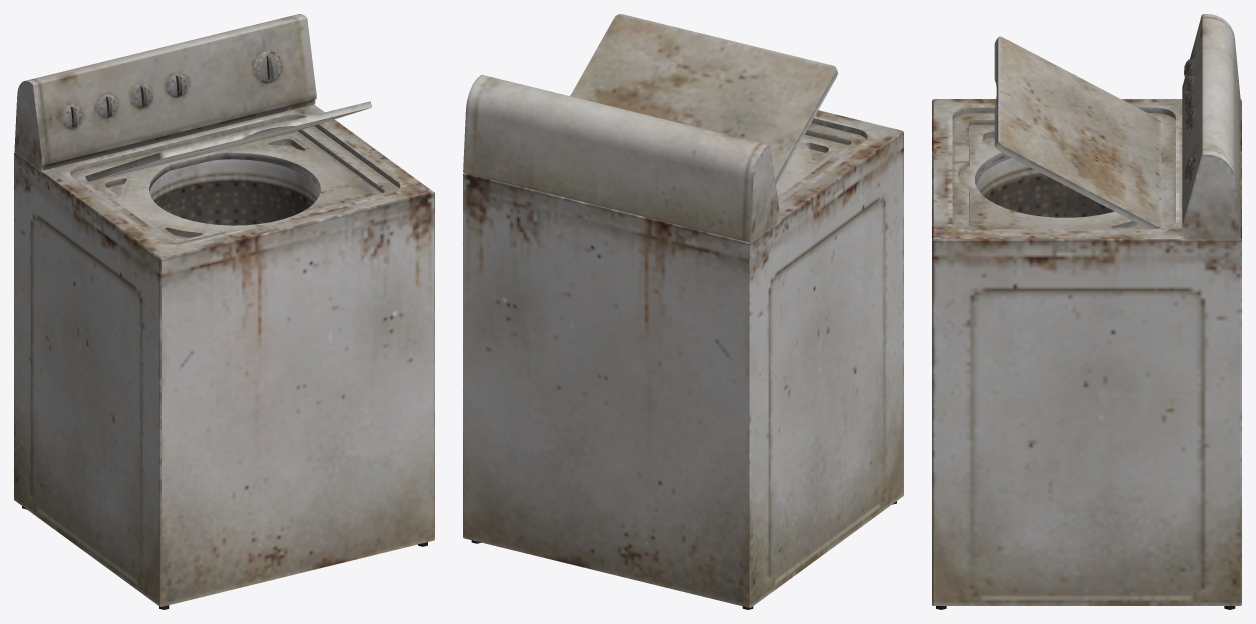
File: 029_WashingMachine.fbx
3 views of the same model, side by side, from view 1: azimuth 30°, elevation 25°; view 2: azimuth 150°, elevation 25°; view 3: azimuth 270°, elevation 25° (orthographic). The views are drawn at different scales.
Parts seen in each view (by area): view 1: LOD_1_Group_0_Sub_1__sm31_029_WashingMachine01A_A_Mat, LOD_1_Group_1_Sub_1__sm31_029_WashingMachine01A_A_Mat; view 2: LOD_1_Group_0_Sub_1__sm31_029_WashingMachine01A_A_Mat, LOD_1_Group_1_Sub_1__sm31_029_WashingMachine01A_A_Mat; view 3: LOD_1_Group_0_Sub_1__sm31_029_WashingMachine01A_A_Mat, LOD_1_Group_1_Sub_1__sm31_029_WashingMachine01A_A_Mat.
Part boxes in pixels (bbox=[...]): LOD_1_Group_0_Sub_1__sm31_029_WashingMachine01A_A_Mat: bbox=[14, 14, 434, 609]; LOD_1_Group_1_Sub_1__sm31_029_WashingMachine01A_A_Mat: bbox=[85, 101, 371, 181]; LOD_1_Group_0_Sub_1__sm31_029_WashingMachine01A_A_Mat: bbox=[463, 75, 903, 609]; LOD_1_Group_1_Sub_1__sm31_029_WashingMachine01A_A_Mat: bbox=[570, 14, 838, 184]; LOD_1_Group_0_Sub_1__sm31_029_WashingMachine01A_A_Mat: bbox=[932, 14, 1241, 609]; LOD_1_Group_1_Sub_1__sm31_029_WashingMachine01A_A_Mat: bbox=[994, 36, 1161, 229].
Size of the model in its own units: 0.839 by 1.27 by 0.778.
